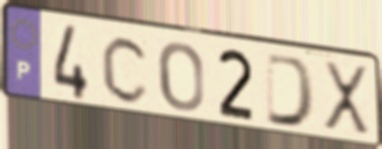2: (216, 48, 255, 123)
4: (51, 21, 91, 104)
C: (99, 33, 152, 106)
D: (264, 50, 319, 131)
O: (156, 40, 206, 114)
X: (321, 58, 372, 141)
